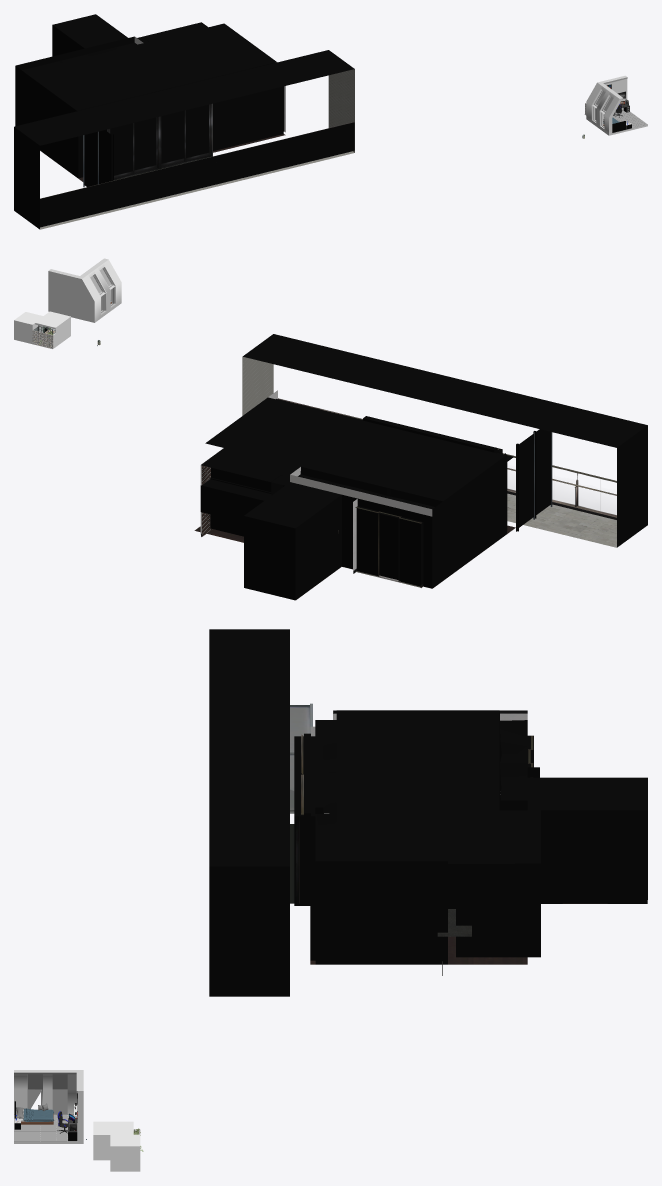
File: interiores (5).glb
The picture shows the model from 3 angles, top to bottom: view 1: azimuth 30°, elevation 25°; view 2: azimuth 150°, elevation 25°; view 3: azimuth 270°, elevation 25°; orthographic projection. The views are drawn at different scales.
Visible parts, largest first — view 1: Material2 (×2), Material3 (×2), cuarto; view 2: Material2 (×2), Material3 (×3), cuarto, IN_tropical; view 3: Material2 (×2), cuarto, IN_tropical, Material3 (×2), cuarto.002.
Boxes of the visible parts, left/top/right/bottom form: Material2 (×2): left=14, top=14, right=354, bottom=229; Material3 (×2): left=40, top=69, right=354, bottom=229; cuarto: left=586, top=75, right=647, bottom=135; Material2 (×2): left=200, top=334, right=647, bottom=600; Material3 (×3): left=200, top=356, right=616, bottom=570; cuarto: left=48, top=258, right=121, bottom=322; IN_tropical: left=14, top=311, right=70, bottom=348; Material2 (×2): left=209, top=629, right=647, bottom=996; cuarto: left=14, top=1070, right=83, bottom=1143; IN_tropical: left=93, top=1121, right=143, bottom=1171; Material3 (×2): left=290, top=703, right=607, bottom=964; cuarto.002: left=14, top=1114, right=73, bottom=1140.
Size of the model in its own units: 12962 by 1907 by 8294.
Materials: 239 (109 with a texture image).
